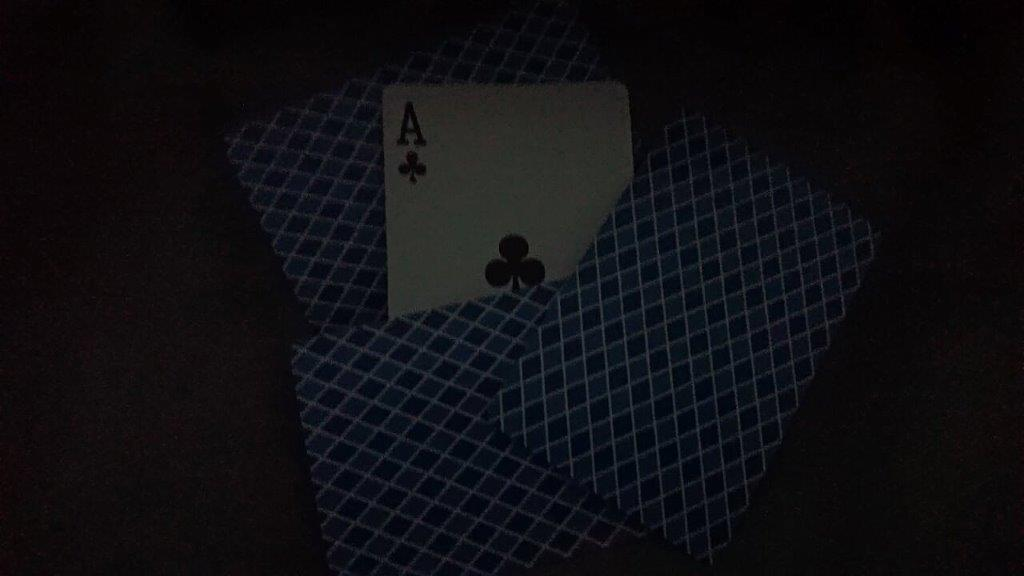AC: (377, 79, 637, 180)
BACK: (485, 105, 887, 576), (289, 292, 485, 576), (221, 65, 381, 313)
